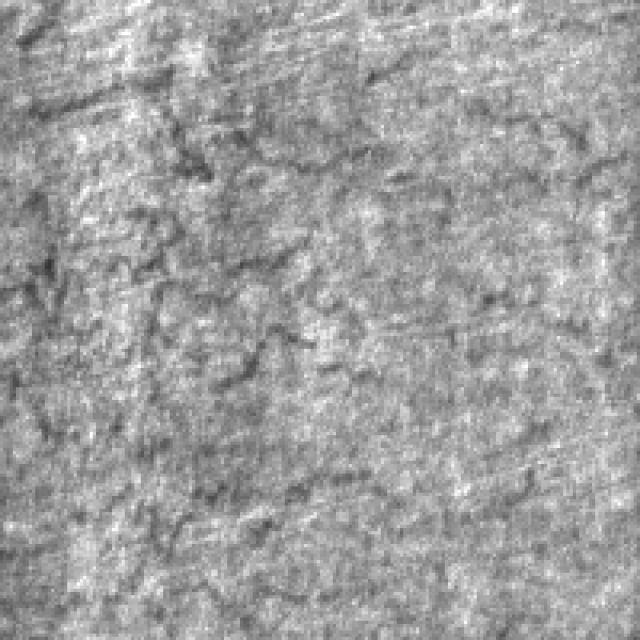crazing: (0, 58, 554, 460), (3, 454, 547, 624)
